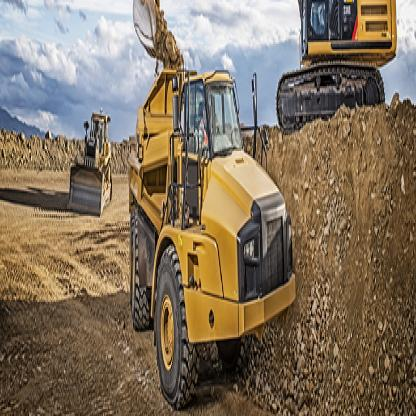bull_dozer/loader/grader: (66, 81, 123, 244)
dump_truck: (123, 55, 317, 406)
